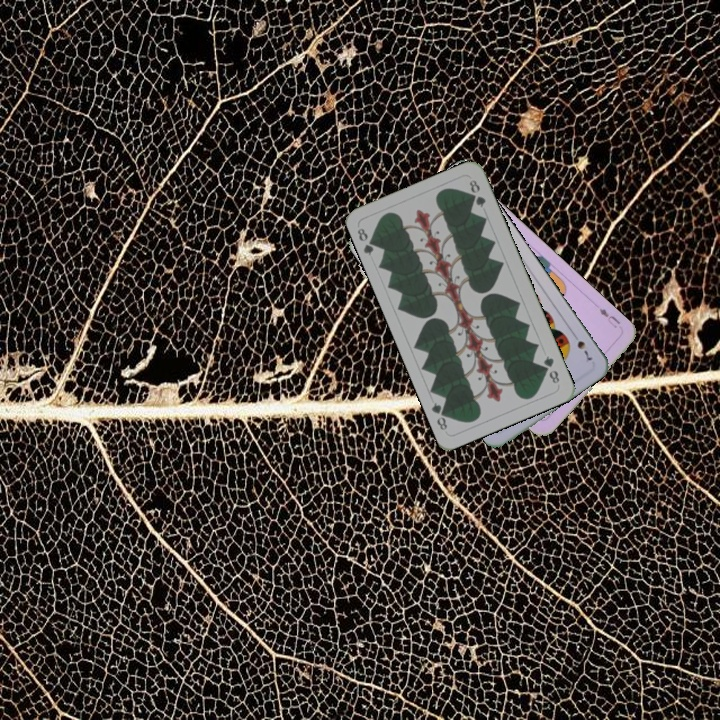EU: (595, 304, 623, 331)
G8: (353, 224, 380, 258), (539, 351, 562, 386)
S7: (568, 329, 595, 365)
